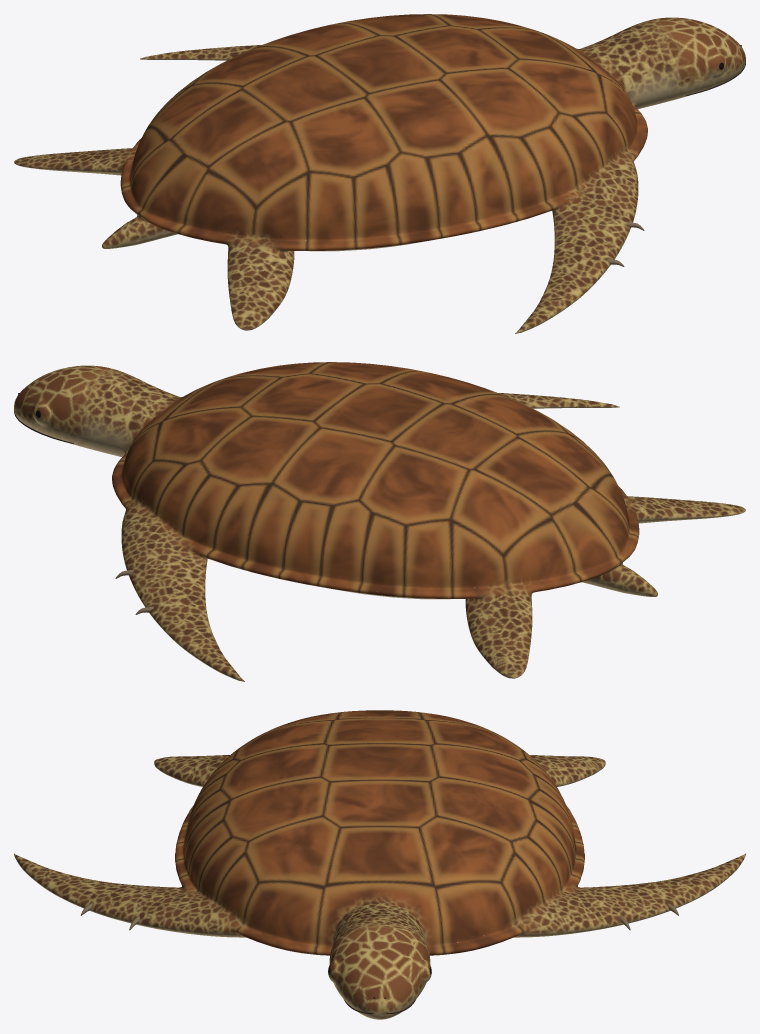
Rendered from LoggerheadTurtle.glb.
3 renders of one model, top to bottom at view 1: azimuth 30°, elevation 25°; view 2: azimuth 150°, elevation 25°; view 3: azimuth 270°, elevation 25°, orthographic. The views are drawn at different scales.
Parts seen in each view (by area): view 1: Continuous anatomical skin | sea_turtle; view 2: Continuous anatomical skin | sea_turtle; view 3: Continuous anatomical skin | sea_turtle.
Boxes of the visible parts, bbox=[...] form: Continuous anatomical skin | sea_turtle: bbox=[14, 14, 745, 333]; Continuous anatomical skin | sea_turtle: bbox=[14, 362, 745, 681]; Continuous anatomical skin | sea_turtle: bbox=[14, 710, 745, 1019].
Bounding box in the file's own units: 1.31 × 0.2565 × 1.33.
Materials: 7 (7 with a texture image).
